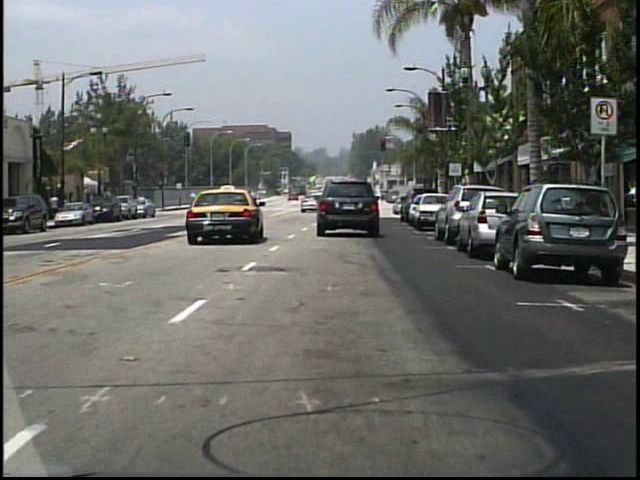person: (325, 191, 337, 213), (51, 193, 62, 216), (251, 190, 263, 211)
